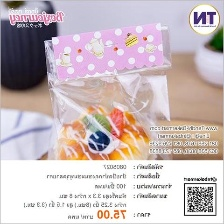snack: (37, 14, 181, 159)
